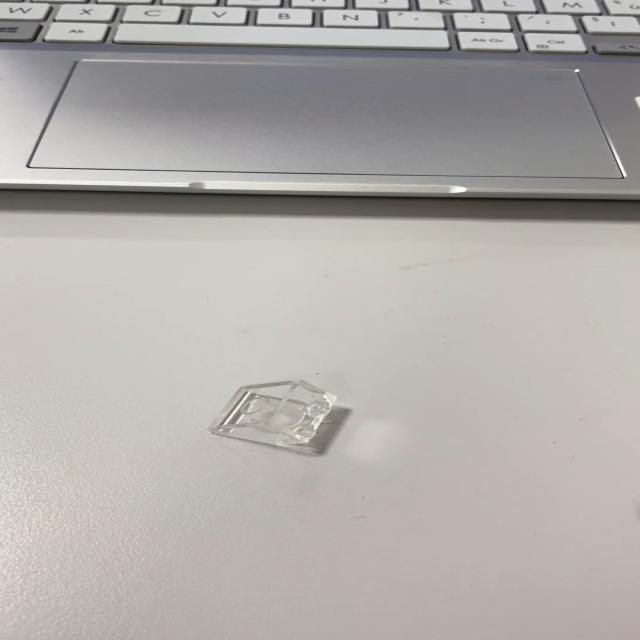C4x1x0: (1, 0, 638, 55)
P2x2x1: (206, 378, 352, 455)
